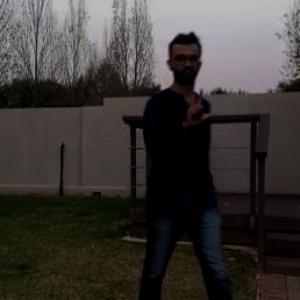land_hand: (180, 83, 222, 129)
